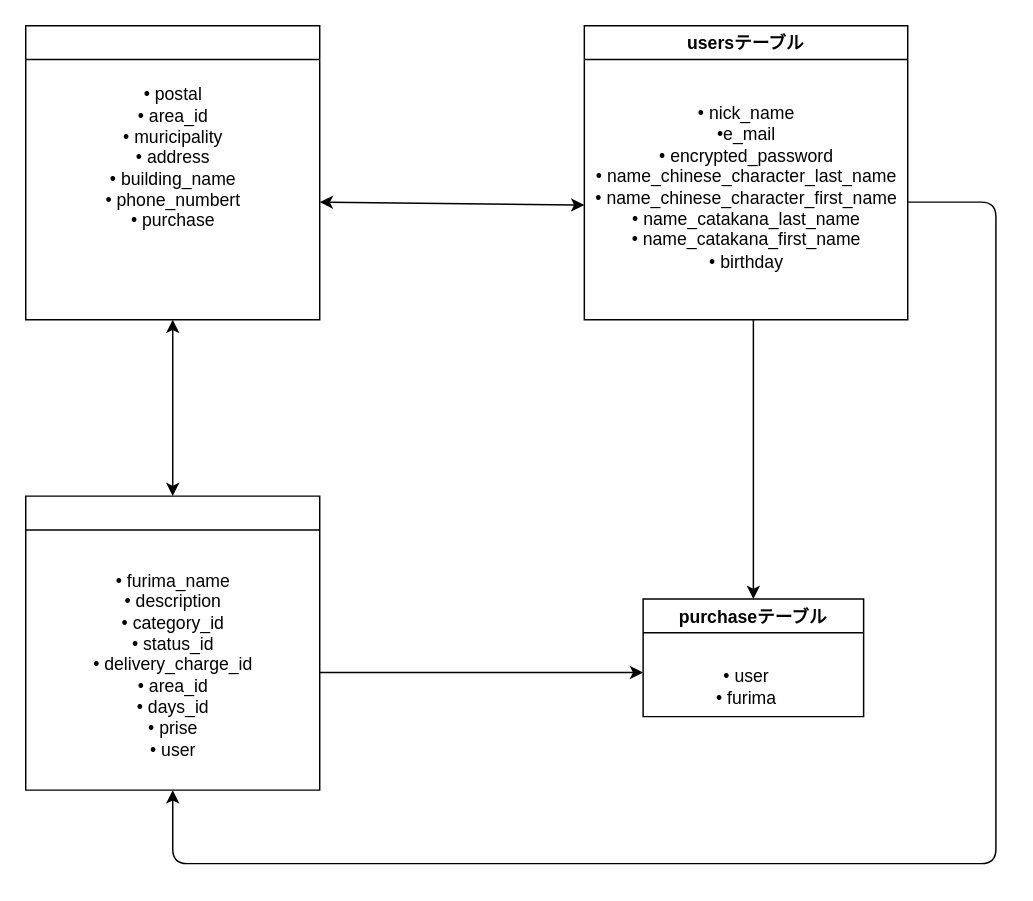
This 1033x901 diagram has some shape labels left out. Here are the shapes that lost their labels. From the top down, the box of each, then its label:
(24, 24, 320, 320): street_addressテーブル
(24, 495, 320, 790): furimasテーブル
